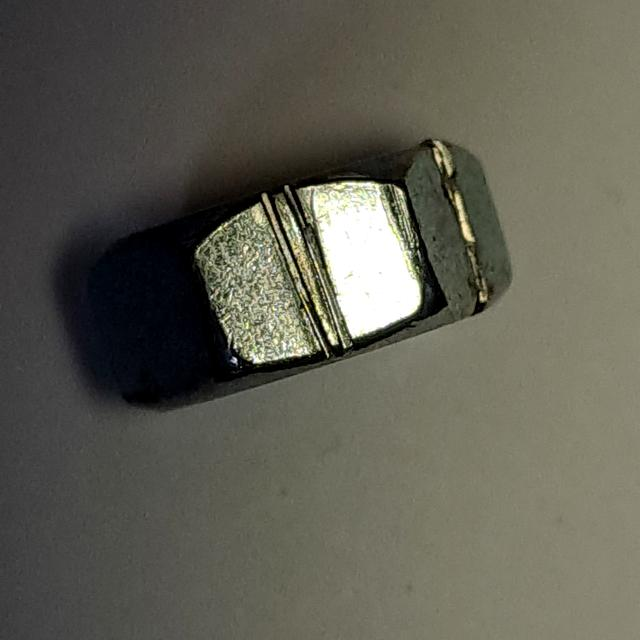Side_Scratches: (74, 113, 524, 430)
